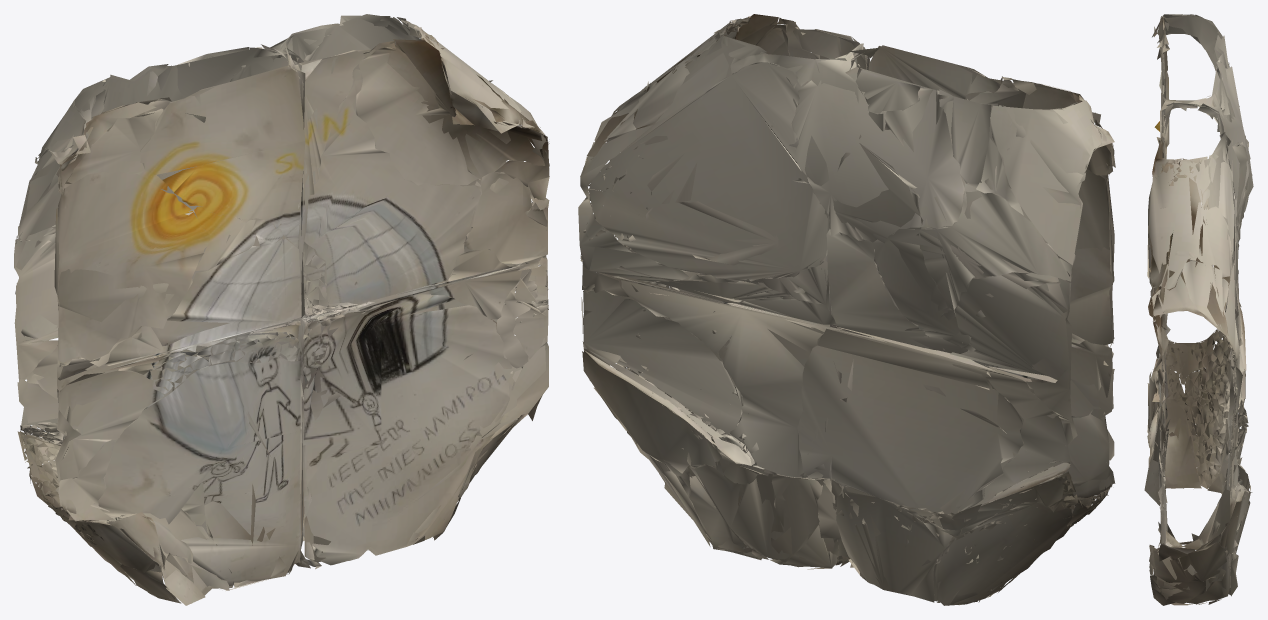
The model's file is drop_child_drawing.glb.
3 views of the same model, side by side, from view 1: azimuth 30°, elevation 25°; view 2: azimuth 150°, elevation 25°; view 3: azimuth 270°, elevation 25° (orthographic). The views are drawn at different scales.
Visible parts, largest first — view 1: node_0; view 2: node_0; view 3: node_0.
Part boxes in pixels (x1,y1,x2,y2): node_0: [14, 14, 549, 605]; node_0: [578, 14, 1115, 605]; node_0: [1144, 14, 1253, 605].
Bounding box in the file's own units: 0.9134 × 0.9114 × 0.1996.
Materials: 1 (1 with a texture image).
